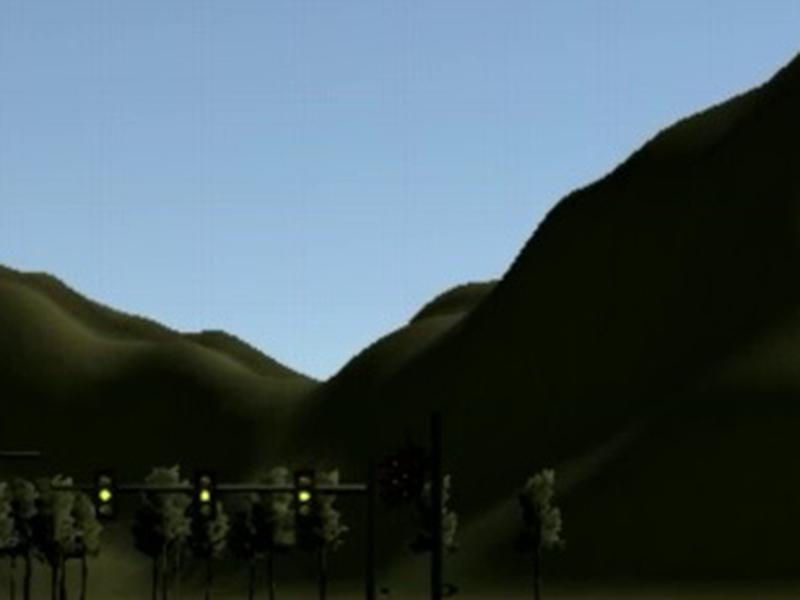Yellow: (196, 469, 217, 521), (295, 469, 314, 520), (97, 469, 114, 520)
